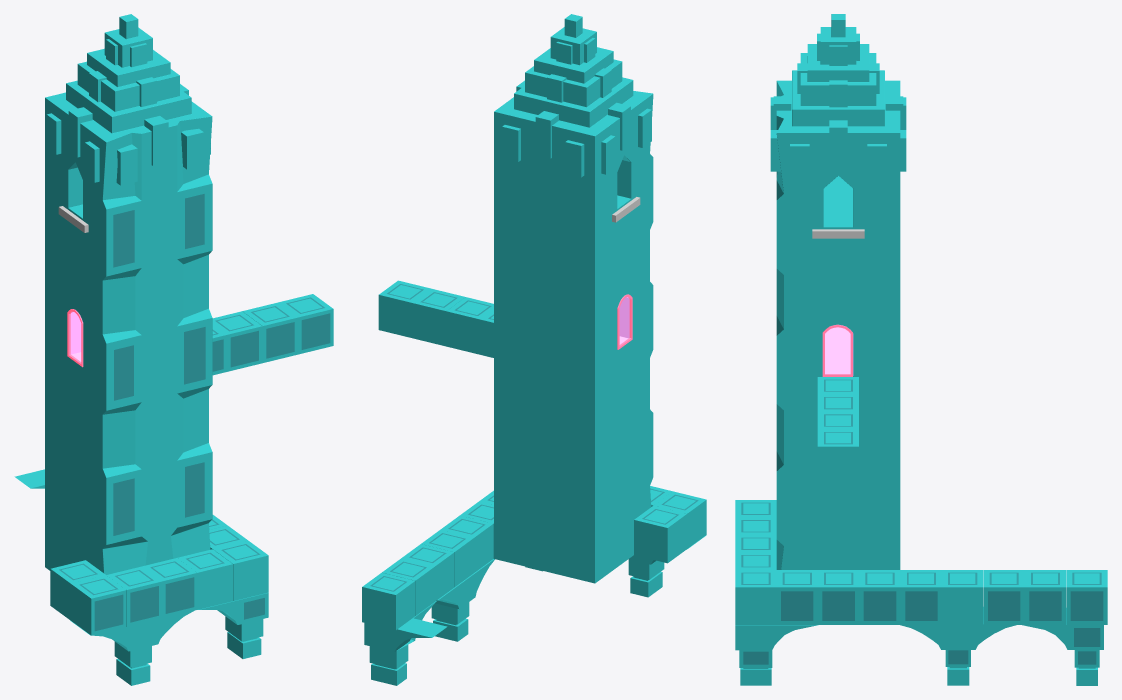
Rendered from monuMap.fbx.
3 views of the same model, side by side, from view 1: azimuth 30°, elevation 25°; view 2: azimuth 150°, elevation 25°; view 3: azimuth 270°, elevation 25° (orthographic). The views are drawn at different scales.
Visible parts, largest first — view 1: Cube, Cube.002, Cube.030, Cube.031, Cube.026, Cube.003, Cube.006, Cube.005, Cube.027, Cube.004, Cube.025, Cube.021 (+7 smaller); view 2: Cube, Cube.033, Cube.028, Cube.001, Cube.032, Cube.026, Cube.027, Cube.025, Cube.013, Cube.011, Cube.012, Cube.002 (+8 smaller); view 3: Cube, Cube.032, Cube.031, Cube.027, Cube.006, Cube.007, Cube.008, Cube.009, Cube.010, Cube.011, Cube.012, Cube.013 (+13 smaller).
Part boxes in pixels (x1,y1,x2,y2): Cube: (45, 14, 212, 574); Cube.002: (71, 575, 126, 635); Cube.030: (70, 611, 193, 685); Cube.031: (198, 592, 268, 658); Cube.026: (242, 302, 298, 362); Cube.003: (106, 566, 162, 626); Cube.006: (213, 540, 268, 600); Cube.005: (177, 549, 232, 609); Cube.027: (278, 294, 333, 354); Cube.004: (142, 558, 197, 618); Cube.025: (212, 311, 262, 371); Cube.021: (116, 128, 203, 185); Cube: (494, 14, 653, 583); Cube.033: (364, 601, 447, 685); Cube.028: (362, 572, 415, 630); Cube.001: (634, 505, 687, 563); Cube.032: (431, 559, 494, 641); Cube.026: (412, 289, 465, 346); Cube.027: (378, 280, 431, 337); Cube.025: (446, 297, 493, 354); Cube.013: (382, 558, 434, 615); Cube.011: (421, 529, 473, 587); Cube.012: (401, 544, 454, 601); Cube.002: (654, 491, 706, 548); Cube: (776, 14, 900, 569); Cube.032: (900, 607, 1016, 685); Cube.031: (735, 625, 818, 685); Cube.027: (817, 429, 858, 484); Cube.006: (735, 570, 776, 624); Cube.007: (776, 570, 817, 624); Cube.008: (818, 570, 859, 624); Cube.009: (859, 570, 900, 624); Cube.010: (900, 570, 941, 624); Cube.011: (942, 570, 983, 624); Cube.012: (983, 570, 1024, 624); Cube.013: (1024, 570, 1065, 624).
Size of the model in its own units: 4805 by 10065 by 5411.
